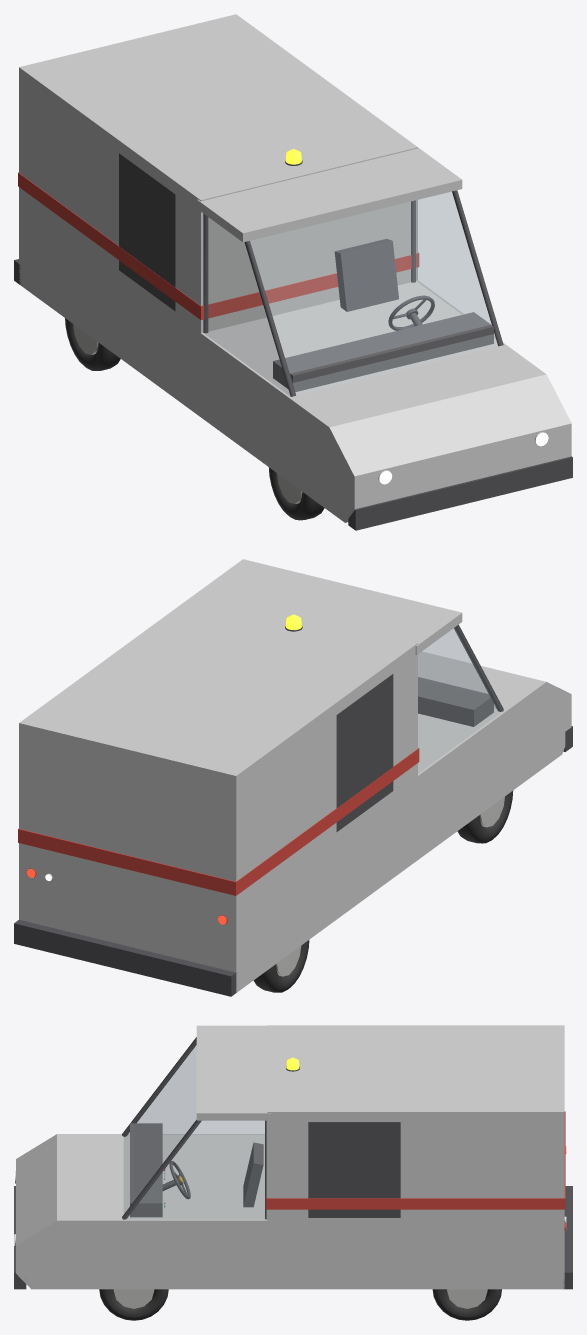
Rendered from AirsideVan.glb.
The picture shows the model from 3 angles, top to bottom: view 1: azimuth 30°, elevation 25°; view 2: azimuth 150°, elevation 25°; view 3: azimuth 270°, elevation 25°; orthographic projection. The views are drawn at different scales.
Parts seen in each view (by area): view 1: Body, Wheel_RR, Wheel_FR; view 2: Body, Wheel_FR, Wheel_RR; view 3: Body, Wheel_RL, Wheel_FL.
Boxes of the visible parts, left/top/right/bottom form: Body: left=14, top=14, right=572, bottom=530; Wheel_RR: left=65, top=318, right=120, bottom=370; Wheel_FR: left=269, top=467, right=324, bottom=520; Body: left=14, top=559, right=572, bottom=996; Wheel_FR: left=457, top=790, right=513, bottom=843; Wheel_RR: left=253, top=940, right=309, bottom=992; Body: left=14, top=1025, right=572, bottom=1289; Wheel_RL: left=432, top=1289, right=501, bottom=1320; Wheel_FL: left=99, top=1289, right=168, bottom=1320.
Size of what is drawn, in the model's own units: 2.02 by 2.41 by 5.45.
